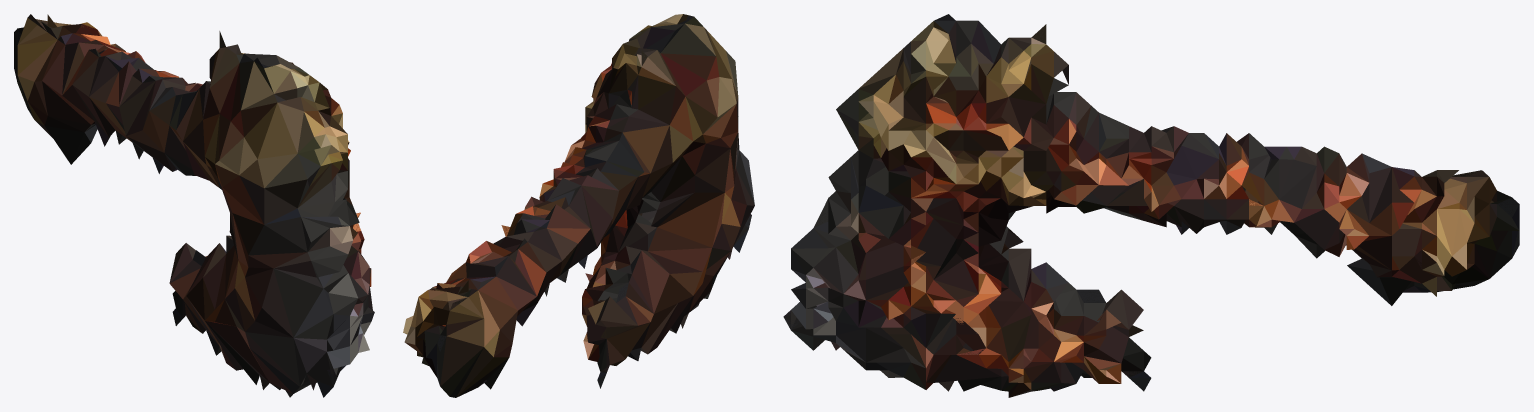
File: B02_6_magma_hatchet.obj
The picture shows the model from 3 angles, left to right: view 1: azimuth 30°, elevation 25°; view 2: azimuth 150°, elevation 25°; view 3: azimuth 270°, elevation 25°; orthographic projection. The views are drawn at different scales.
Parts seen in each view (by area): view 1: B02_6_magma_hatchet; view 2: B02_6_magma_hatchet; view 3: B02_6_magma_hatchet.
Part boxes in pixels (x1,y1,x2,y2): B02_6_magma_hatchet: [14, 14, 374, 397]; B02_6_magma_hatchet: [403, 14, 754, 397]; B02_6_magma_hatchet: [783, 14, 1519, 397].
Bounding box in the file's own units: 21 × 55 × 98.
